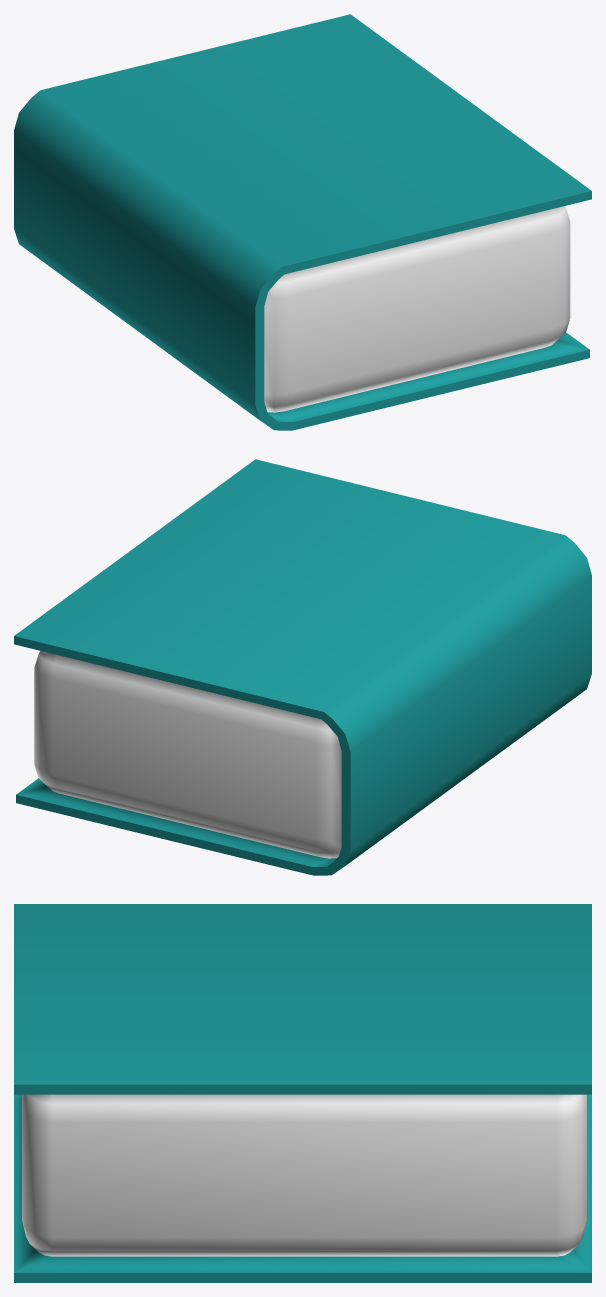
3 views of the same model, one above another, from view 1: azimuth 30°, elevation 25°; view 2: azimuth 150°, elevation 25°; view 3: azimuth 270°, elevation 25° (orthographic). The views are drawn at different scales.
Parts seen in each view (by area): view 1: ChamferBox005; view 2: ChamferBox005; view 3: ChamferBox005.
Part boxes in pixels (x1=…): ChamferBox005: x1=14, y1=14, x2=591, y2=430; ChamferBox005: x1=14, y1=459, x2=591, y2=875; ChamferBox005: x1=14, y1=904, x2=591, y2=1282.
Size of the model in its own units: 12.34 by 5.84 by 15.34.
1 material, 1 textured.
